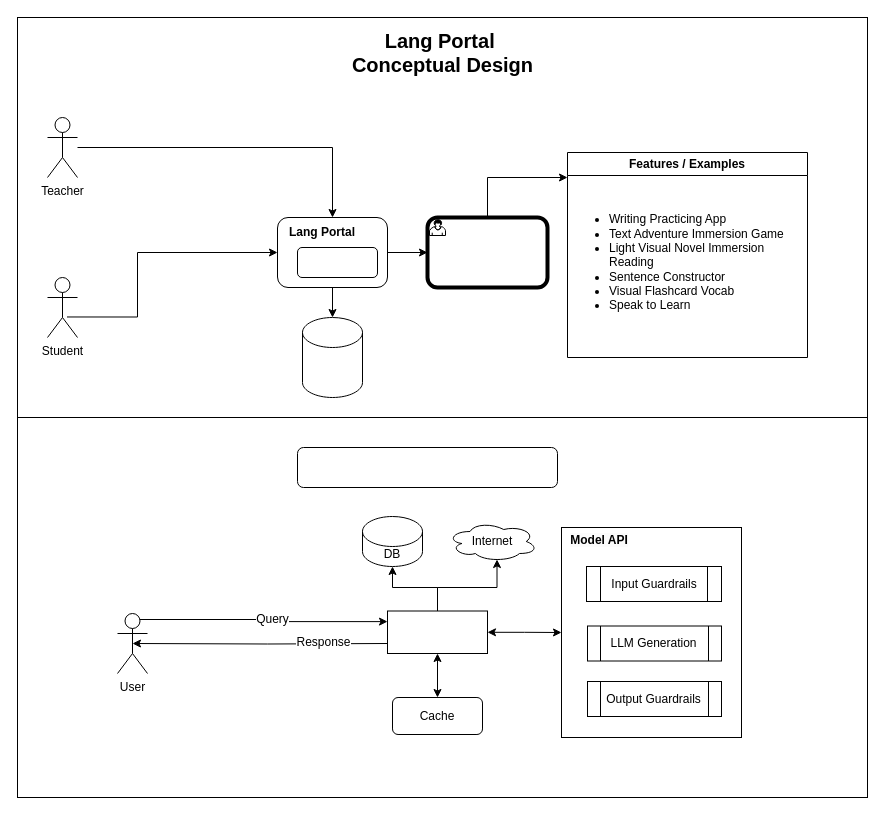
Image size: 885x815. Some labels were removed from this diagram. The centre of each missing label's shape, as x and y in pixels:
"Core 2000 Words" belongs at (x=332, y=357).
"RAG Interface" belongs at (x=437, y=632).
"Study Activities" belongs at (x=487, y=252).
"Study Activity (Sentence Constructor)" belongs at (x=427, y=467).
"Word Group" belongs at (x=337, y=262).
